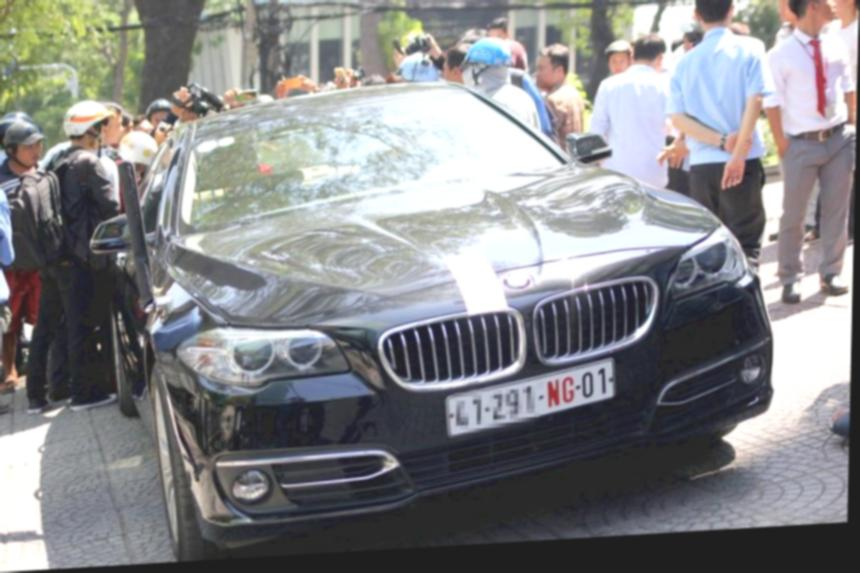License_Plate: (439, 364, 624, 438)
